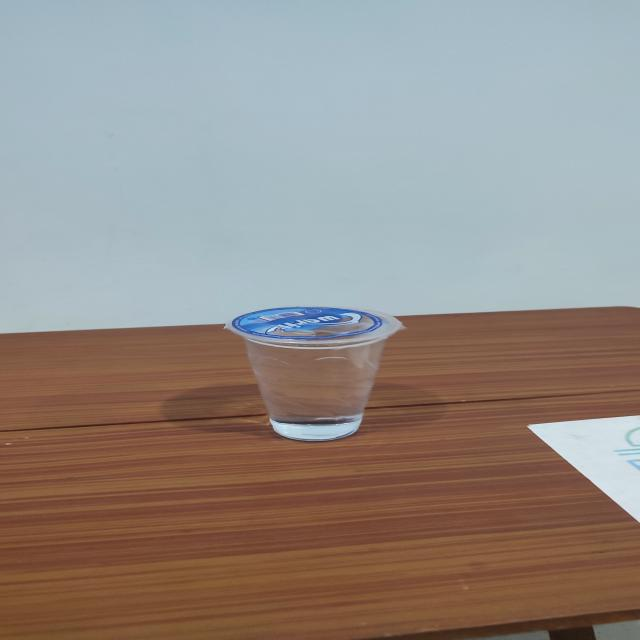air gelas: (224, 295, 409, 447)
